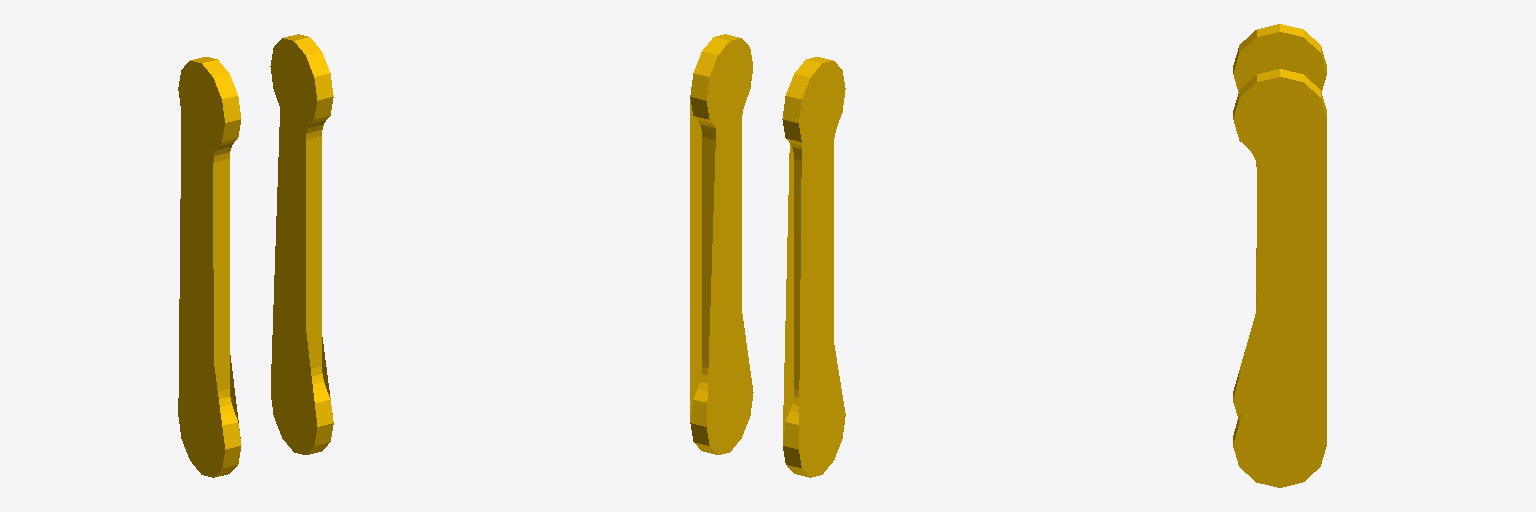
Rendered from ExBucketLink2.obj.
3 views of the same model, side by side, from view 1: azimuth 30°, elevation 25°; view 2: azimuth 150°, elevation 25°; view 3: azimuth 270°, elevation 25° (orthographic).
Visible parts, largest first — view 1: Mesh2 G_11_2 Model, Mesh1 G_11_1 Model; view 2: Mesh1 G_11_1 Model, Mesh2 G_11_2 Model; view 3: Mesh1 G_11_1 Model, Mesh2 G_11_2 Model.
Part boxes in pixels (left/top/right/bottom): Mesh2 G_11_2 Model: left=178, top=57, right=241, bottom=477; Mesh1 G_11_1 Model: left=270, top=34, right=333, bottom=454; Mesh1 G_11_1 Model: left=690, top=34, right=753, bottom=454; Mesh2 G_11_2 Model: left=782, top=57, right=845, bottom=477; Mesh1 G_11_1 Model: left=1233, top=69, right=1326, bottom=487; Mesh2 G_11_2 Model: left=1233, top=24, right=1326, bottom=415.
Bounding box in the file's own units: 0.2 × 0.725 × 0.1504.